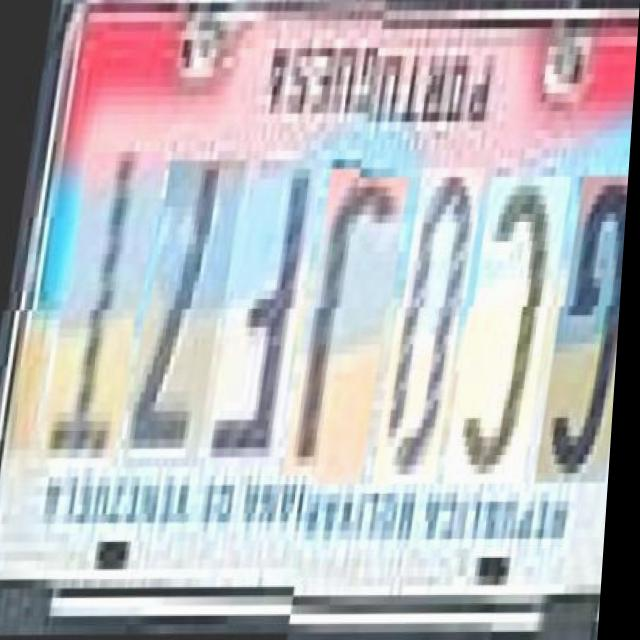0: (377, 158, 477, 476)
7: (124, 160, 235, 466)
c: (448, 168, 562, 474)
f: (208, 160, 314, 466)
g: (539, 168, 631, 474)
j: (286, 168, 400, 475)
t: (42, 151, 154, 466)
